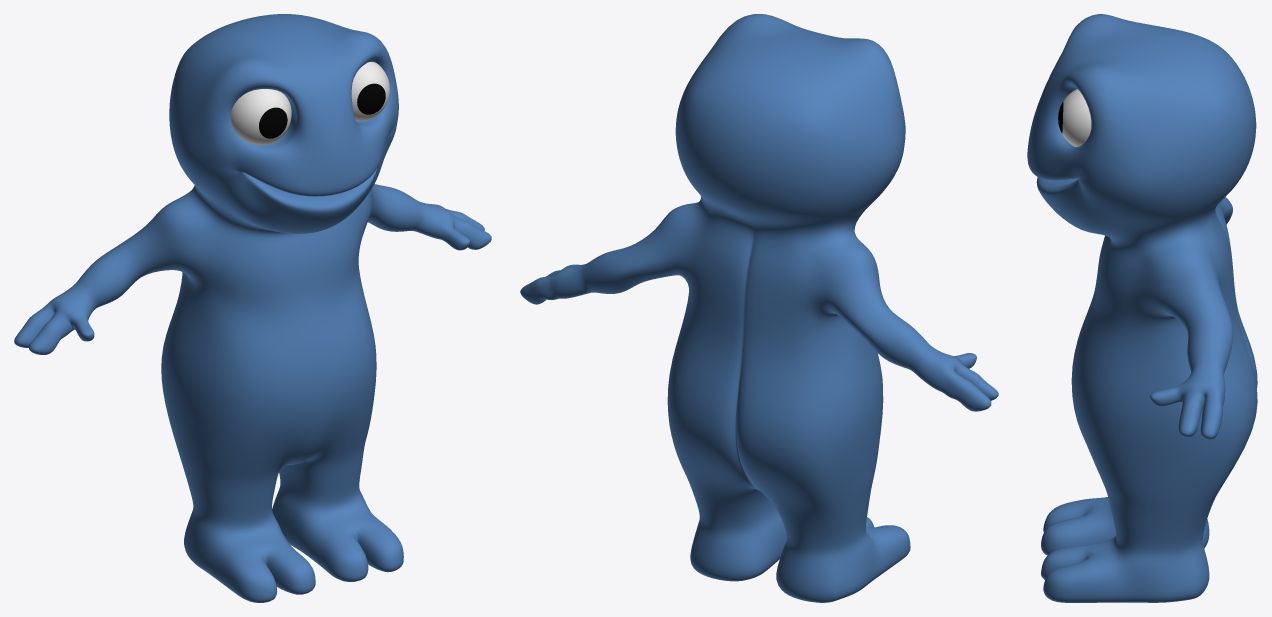
The model's file is Alien_CreatureNORIG.fbx.
The picture shows the model from 3 angles, left to right: view 1: azimuth 30°, elevation 25°; view 2: azimuth 150°, elevation 25°; view 3: azimuth 270°, elevation 25°; orthographic projection.
Visible parts, largest first — view 1: Alien, Alien_Eye.L.001, Alien_Eye.R; view 2: Alien; view 3: Alien, Alien_Eye.R.
Part boxes in pixels (box(x1,y1,x2,y2)): Alien: box(14, 14, 491, 602); Alien_Eye.L.001: box(230, 89, 291, 145); Alien_Eye.R: box(351, 62, 389, 121); Alien: box(520, 14, 998, 602); Alien: box(1027, 14, 1257, 602); Alien_Eye.R: box(1058, 89, 1091, 146).
Size of the model in its own units: 387 by 412 by 164.
